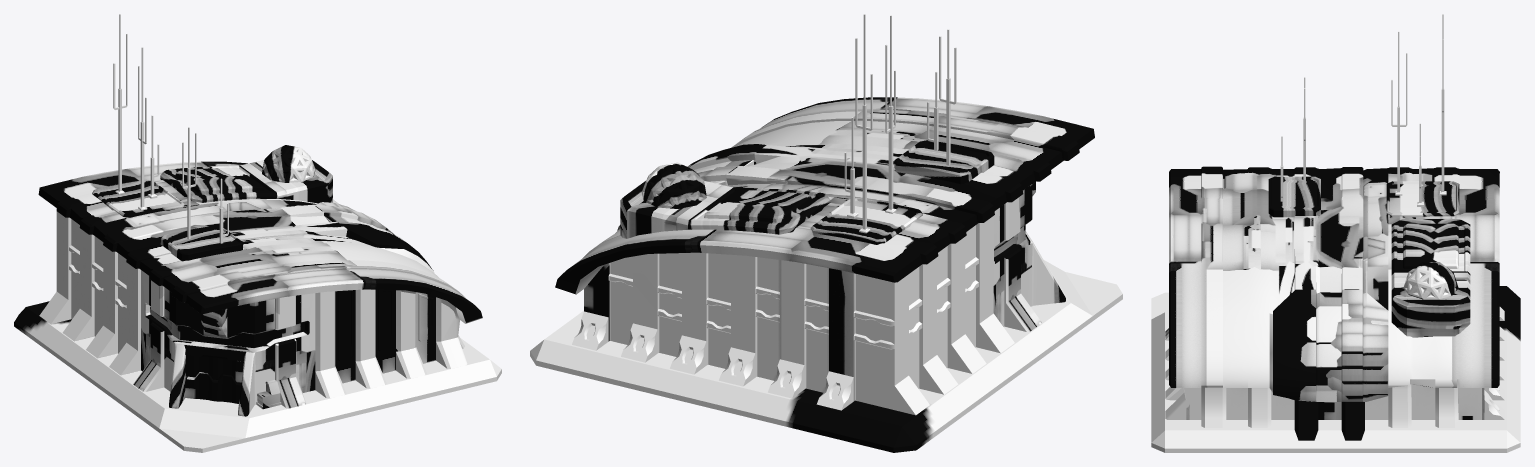
The model's file is barrack_1.fbx.
3 views of the same model, side by side, from view 1: azimuth 30°, elevation 25°; view 2: azimuth 150°, elevation 25°; view 3: azimuth 270°, elevation 25° (orthographic). The views are drawn at different scales.
Parts seen in each view (by area): view 1: barrack_light_inflantry; view 2: barrack_light_inflantry; view 3: barrack_light_inflantry.
Boxes of the visible parts, x1,y1,x2,y2 form: barrack_light_inflantry: (14,14,501,452); barrack_light_inflantry: (530,14,1122,452); barrack_light_inflantry: (1151,14,1520,452).
Bounding box in the file's own units: 400 × 382 × 400.
